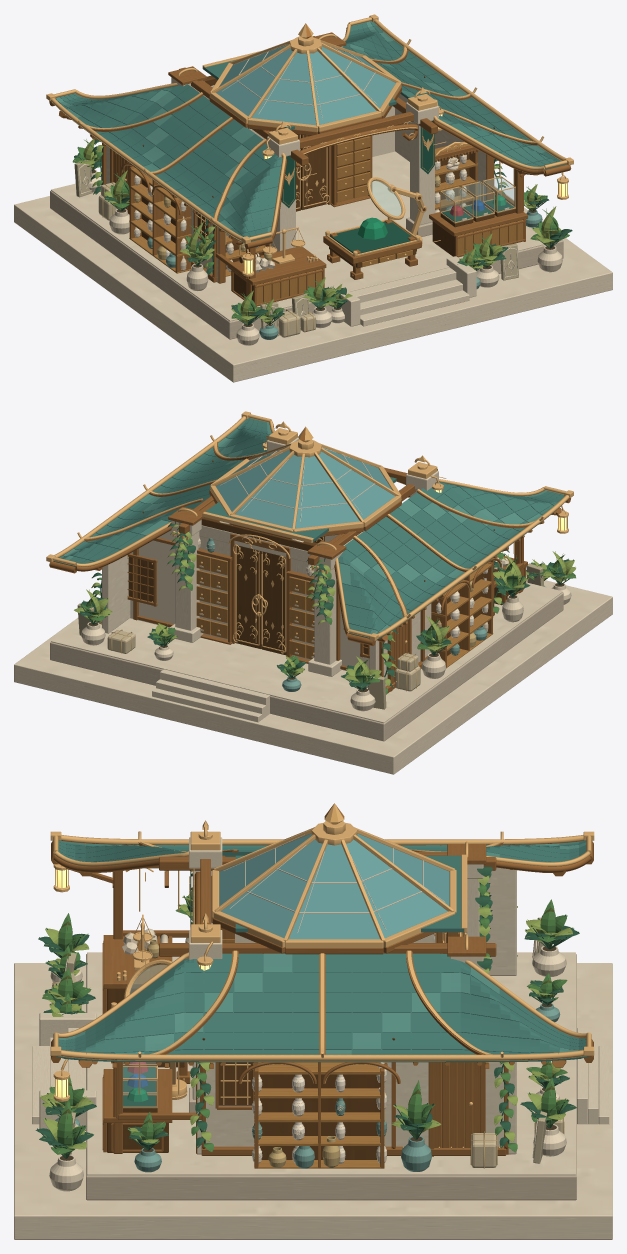
The model's file is appraisal-v50.glb.
The picture shows the model from 3 angles, top to bottom: view 1: azimuth 30°, elevation 25°; view 2: azimuth 150°, elevation 25°; view 3: azimuth 270°, elevation 25°; orthographic projection. The views are drawn at different scales.
Visible parts, largest first — view 1: SM_APP_MAT_APP_WarmIvory.021, SM_APP_MAT_APP_TealRoof.021, SM_APP_MAT_APP_HoneyTimber.021, SM_APP_MAT_APP_BrassGold.021, SM_APP_MAT_APP_SourceTintCrownGlass, SM_APP_MAT_APP_DrawerWood.021, SM_APP_MAT_APP_Limestone.021, SM_APP_MAT_APP_LeafLime.021, SM_APP_MAT_APP_TealRoofAlt.021, SM_APP_MAT_APP_Walnut.021, SM_APP_MAT_APP_EmeraldVelvet.021, SM_APP_MAT_APP_LeafDark.021 (+9 smaller); view 2: SM_APP_MAT_APP_WarmIvory.021, SM_APP_MAT_APP_TealRoof.021, SM_APP_MAT_APP_BrassGold.021, SM_APP_MAT_APP_HoneyTimber.021, SM_APP_MAT_APP_SourceTintCrownGlass, SM_APP_MAT_APP_Limestone.021, SM_APP_MAT_APP_DrawerWood.021, SM_APP_MAT_APP_TealRoofAlt.021, SM_APP_MAT_APP_LeafLime.021, SM_APP_MAT_APP_LeafDark.021, SM_APP_MAT_APP_LeafJade.021, SM_APP_MAT_APP_Walnut_APP_GrandDoorHinge_1.021 (+8 smaller); view 3: SM_APP_MAT_APP_WarmIvory.021, SM_APP_MAT_APP_TealRoof.021, SM_APP_MAT_APP_HoneyTimber.021, SM_APP_MAT_APP_BrassGold.021, SM_APP_MAT_APP_SourceTintCrownGlass, SM_APP_MAT_APP_Limestone.021, SM_APP_MAT_APP_Walnut.021, SM_APP_MAT_APP_LeafJade.021, SM_APP_MAT_APP_DrawerWood.021, SM_APP_MAT_APP_TealRoofAlt.021, SM_APP_MAT_APP_LeafDark.021, SM_APP_MAT_APP_LeafLime.021 (+8 smaller).
Boxes of the visible parts, x1,y1,x2,y2 form: SM_APP_MAT_APP_WarmIvory.021: [14, 44, 612, 382]; SM_APP_MAT_APP_TealRoof.021: [53, 21, 566, 243]; SM_APP_MAT_APP_HoneyTimber.021: [49, 27, 571, 307]; SM_APP_MAT_APP_BrassGold.021: [46, 14, 573, 276]; SM_APP_MAT_APP_SourceTintCrownGlass: [216, 44, 395, 125]; SM_APP_MAT_APP_DrawerWood.021: [129, 136, 523, 303]; SM_APP_MAT_APP_Limestone.021: [50, 190, 563, 339]; SM_APP_MAT_APP_LeafLime.021: [78, 139, 561, 324]; SM_APP_MAT_APP_TealRoofAlt.021: [55, 21, 545, 232]; SM_APP_MAT_APP_Walnut.021: [141, 75, 521, 305]; SM_APP_MAT_APP_EmeraldVelvet.021: [281, 121, 513, 253]; SM_APP_MAT_APP_LeafDark.021: [74, 139, 572, 325]; SM_APP_MAT_APP_WarmIvory.021: [14, 437, 612, 774]; SM_APP_MAT_APP_TealRoof.021: [53, 418, 566, 640]; SM_APP_MAT_APP_BrassGold.021: [46, 411, 573, 688]; SM_APP_MAT_APP_HoneyTimber.021: [49, 423, 570, 693]; SM_APP_MAT_APP_SourceTintCrownGlass: [216, 448, 395, 528]; SM_APP_MAT_APP_Limestone.021: [50, 592, 563, 741]; SM_APP_MAT_APP_DrawerWood.021: [196, 554, 493, 667]; SM_APP_MAT_APP_TealRoofAlt.021: [63, 422, 547, 634]; SM_APP_MAT_APP_LeafLime.021: [74, 524, 575, 689]; SM_APP_MAT_APP_LeafDark.021: [80, 521, 575, 690]; SM_APP_MAT_APP_LeafJade.021: [80, 528, 575, 694]; SM_APP_MAT_APP_Walnut_APP_GrandDoorHinge_1.021: [235, 545, 261, 648]; SM_APP_MAT_APP_WarmIvory.021: [14, 834, 612, 1239]; SM_APP_MAT_APP_TealRoof.021: [56, 840, 588, 1062]; SM_APP_MAT_APP_HoneyTimber.021: [51, 841, 593, 1168]; SM_APP_MAT_APP_BrassGold.021: [50, 803, 594, 1161]; SM_APP_MAT_APP_SourceTintCrownGlass: [219, 833, 449, 939]; SM_APP_MAT_APP_Limestone.021: [86, 954, 576, 1200]; SM_APP_MAT_APP_Walnut.021: [107, 932, 507, 1159]; SM_APP_MAT_APP_LeafJade.021: [42, 884, 569, 1157]; SM_APP_MAT_APP_DrawerWood.021: [111, 932, 488, 1168]; SM_APP_MAT_APP_TealRoofAlt.021: [58, 842, 586, 1054]; SM_APP_MAT_APP_LeafDark.021: [35, 866, 579, 1158]; SM_APP_MAT_APP_LeafLime.021: [40, 876, 572, 1149].
Bounding box in the file's own units: 10 × 5.72 × 10.
Materials: 29 (6 with a texture image).
